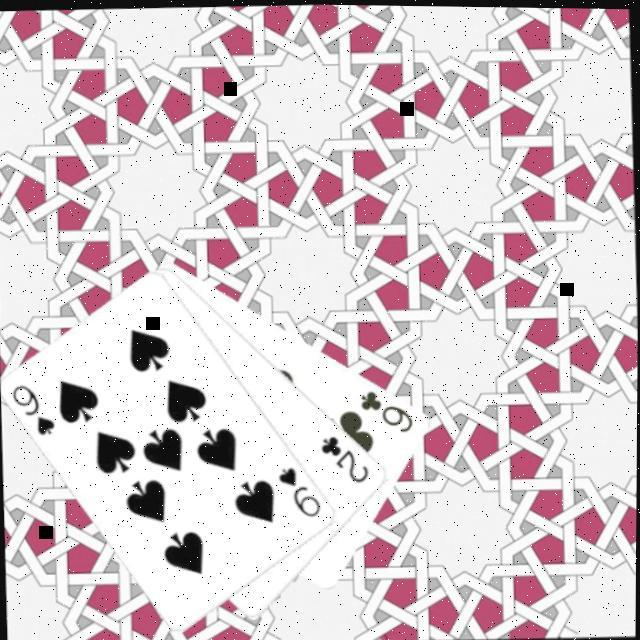2C: (316, 431, 372, 488)
6C: (355, 385, 415, 437)
9S: (6, 381, 57, 442), (273, 463, 323, 523)
